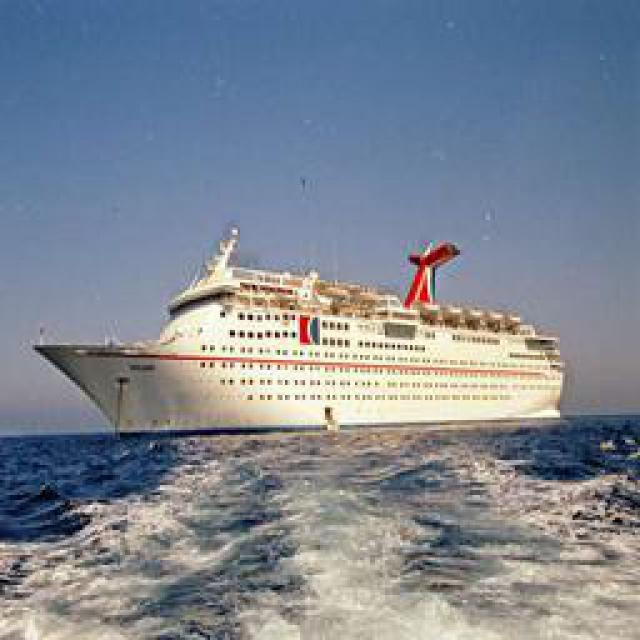Ship: (24, 234, 579, 439)
